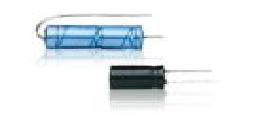Electrolytic-Capacitor: (31, 13, 168, 51), (106, 61, 221, 94)
